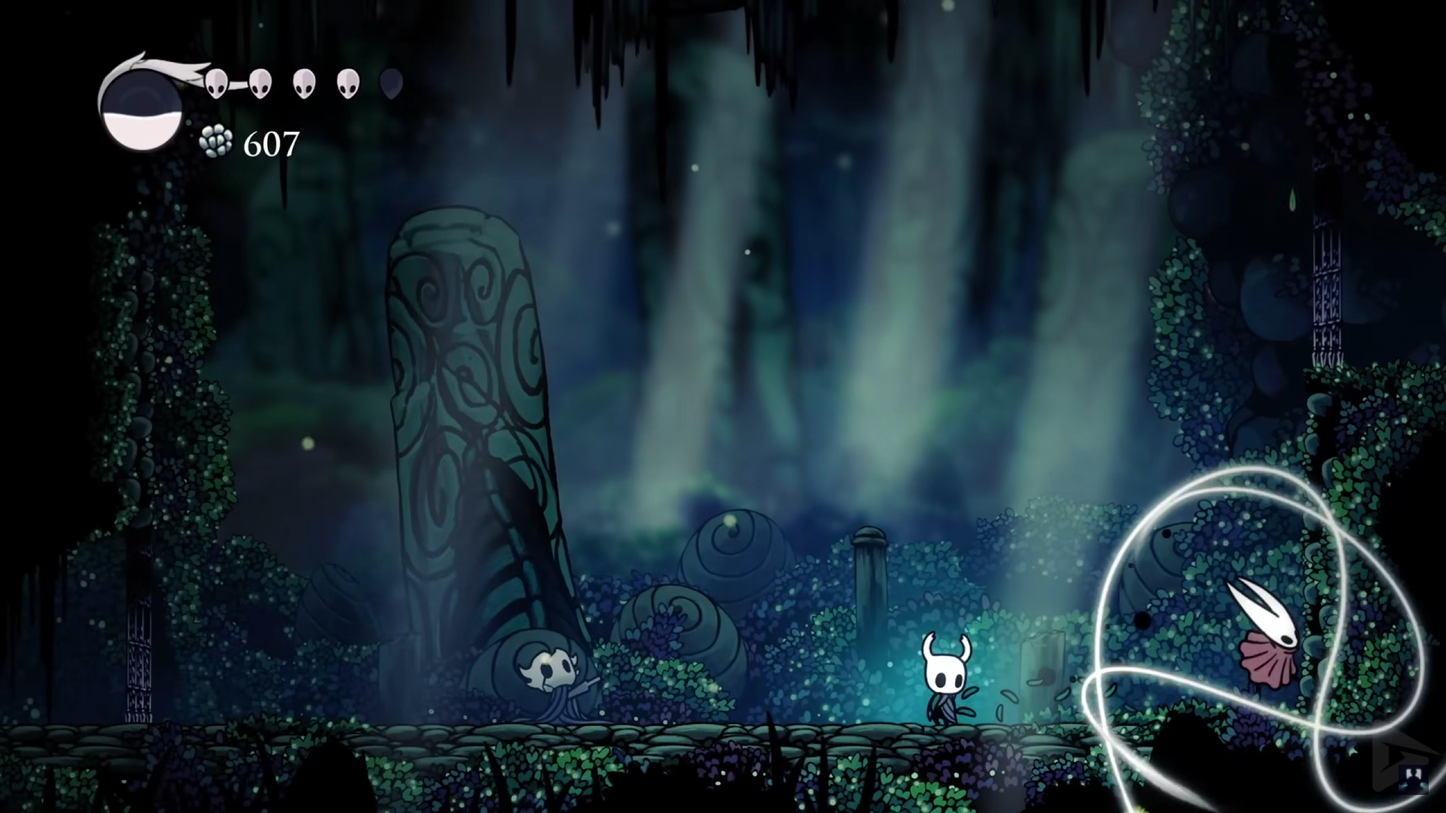HK: (914, 628, 976, 728)
